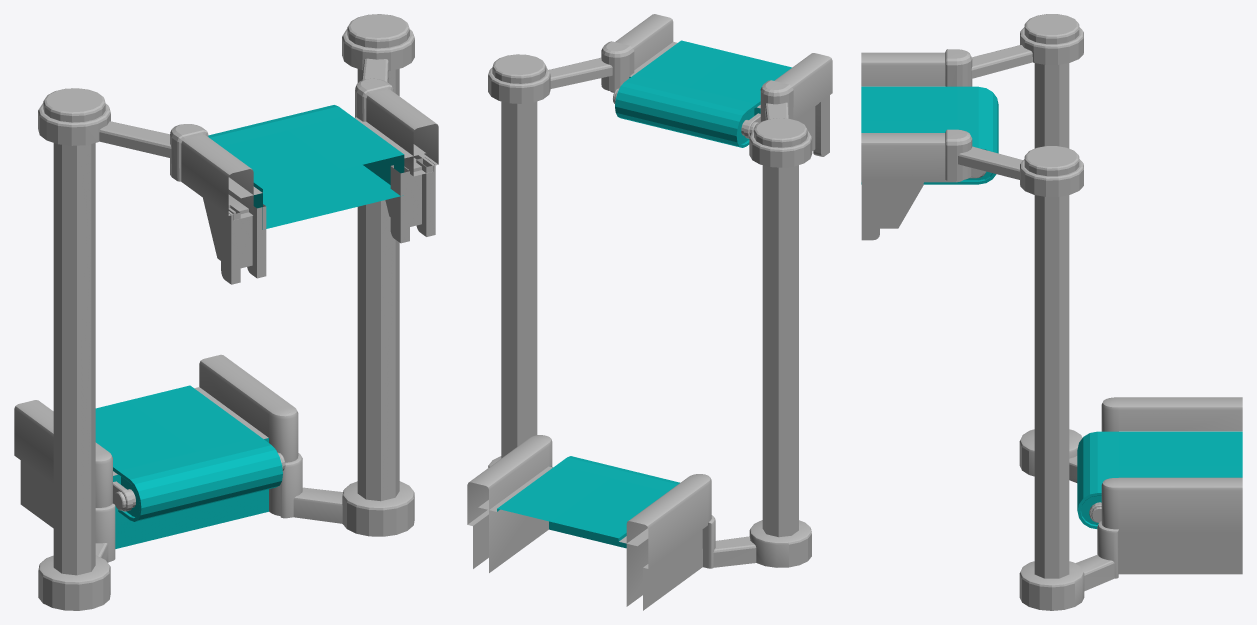
Rendered from Lift1DownForwardInternalVariant.gltf.
The picture shows the model from 3 angles, left to right: view 1: azimuth 30°, elevation 25°; view 2: azimuth 150°, elevation 25°; view 3: azimuth 270°, elevation 25°; orthographic projection. The views are drawn at different scales.
Visible parts, largest first — view 1: Lift_1DownForward_Layer1_LOD0; view 2: Lift_1DownForward_Layer1_LOD0; view 3: Lift_1DownForward_Layer1_LOD0.
Part boxes in pixels (<box>): Lift_1DownForward_Layer1_LOD0: <box>14,14,438,610</box>; Lift_1DownForward_Layer1_LOD0: <box>467,14,832,610</box>; Lift_1DownForward_Layer1_LOD0: <box>861,14,1242,610</box>.
Bounding box in the file's own units: 0.9914 × 1.28 × 1.
